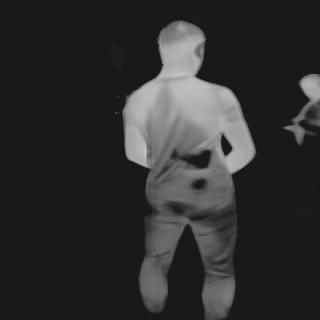Gun: (171, 149, 212, 191)
